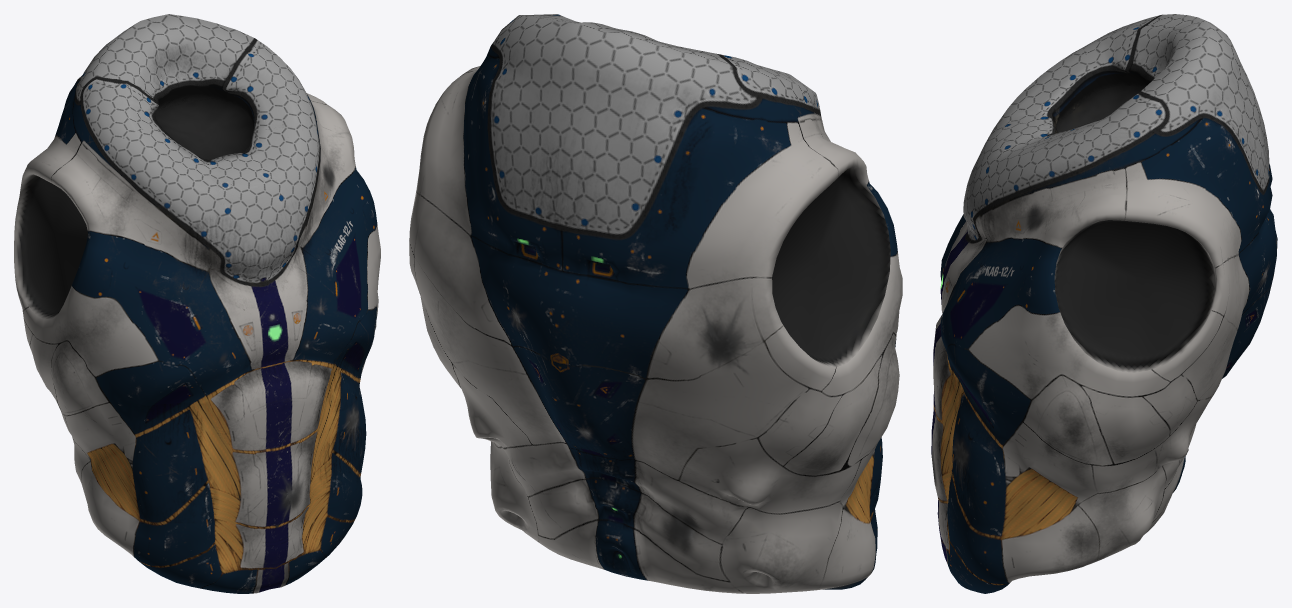
File: sci-fi_chest_armor.glb
The picture shows the model from 3 angles, left to right: view 1: azimuth 30°, elevation 25°; view 2: azimuth 150°, elevation 25°; view 3: azimuth 270°, elevation 25°; orthographic projection. The views are drawn at different scales.
Parts seen in each view (by area): view 1: Sci-Fi-Chest_LP; view 2: Sci-Fi-Chest_LP; view 3: Sci-Fi-Chest_LP.
Part boxes in pixels (x1,y1,x2,y2): Sci-Fi-Chest_LP: (14, 14, 380, 593); Sci-Fi-Chest_LP: (409, 14, 902, 593); Sci-Fi-Chest_LP: (931, 14, 1277, 593).
Bounding box in the file's own units: 0.6264 × 0.9304 × 0.5377.
1 material, 1 textured.
